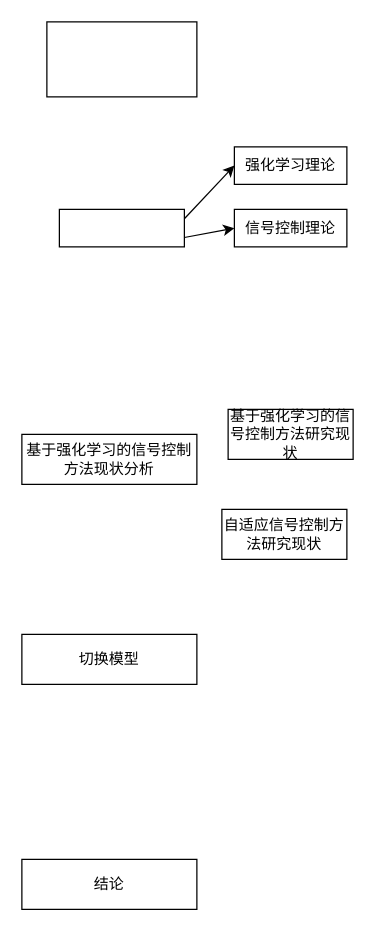
Image size: 375x931. Some labels were removed from this diagram. Here are the shapes that lost their labels. From the top down, the box of each, then its label:
(46, 21, 197, 97): 选题意义和研究目的
(58, 208, 184, 247): 基础理论
